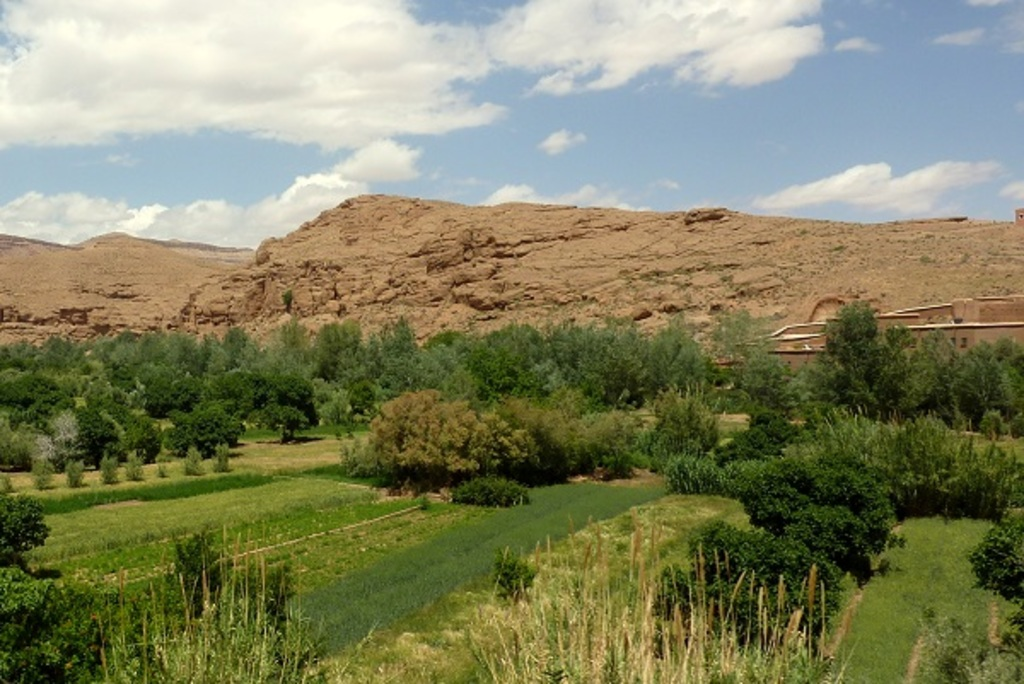Tree: (0, 327, 1022, 644), (0, 474, 300, 682), (349, 371, 488, 491)
